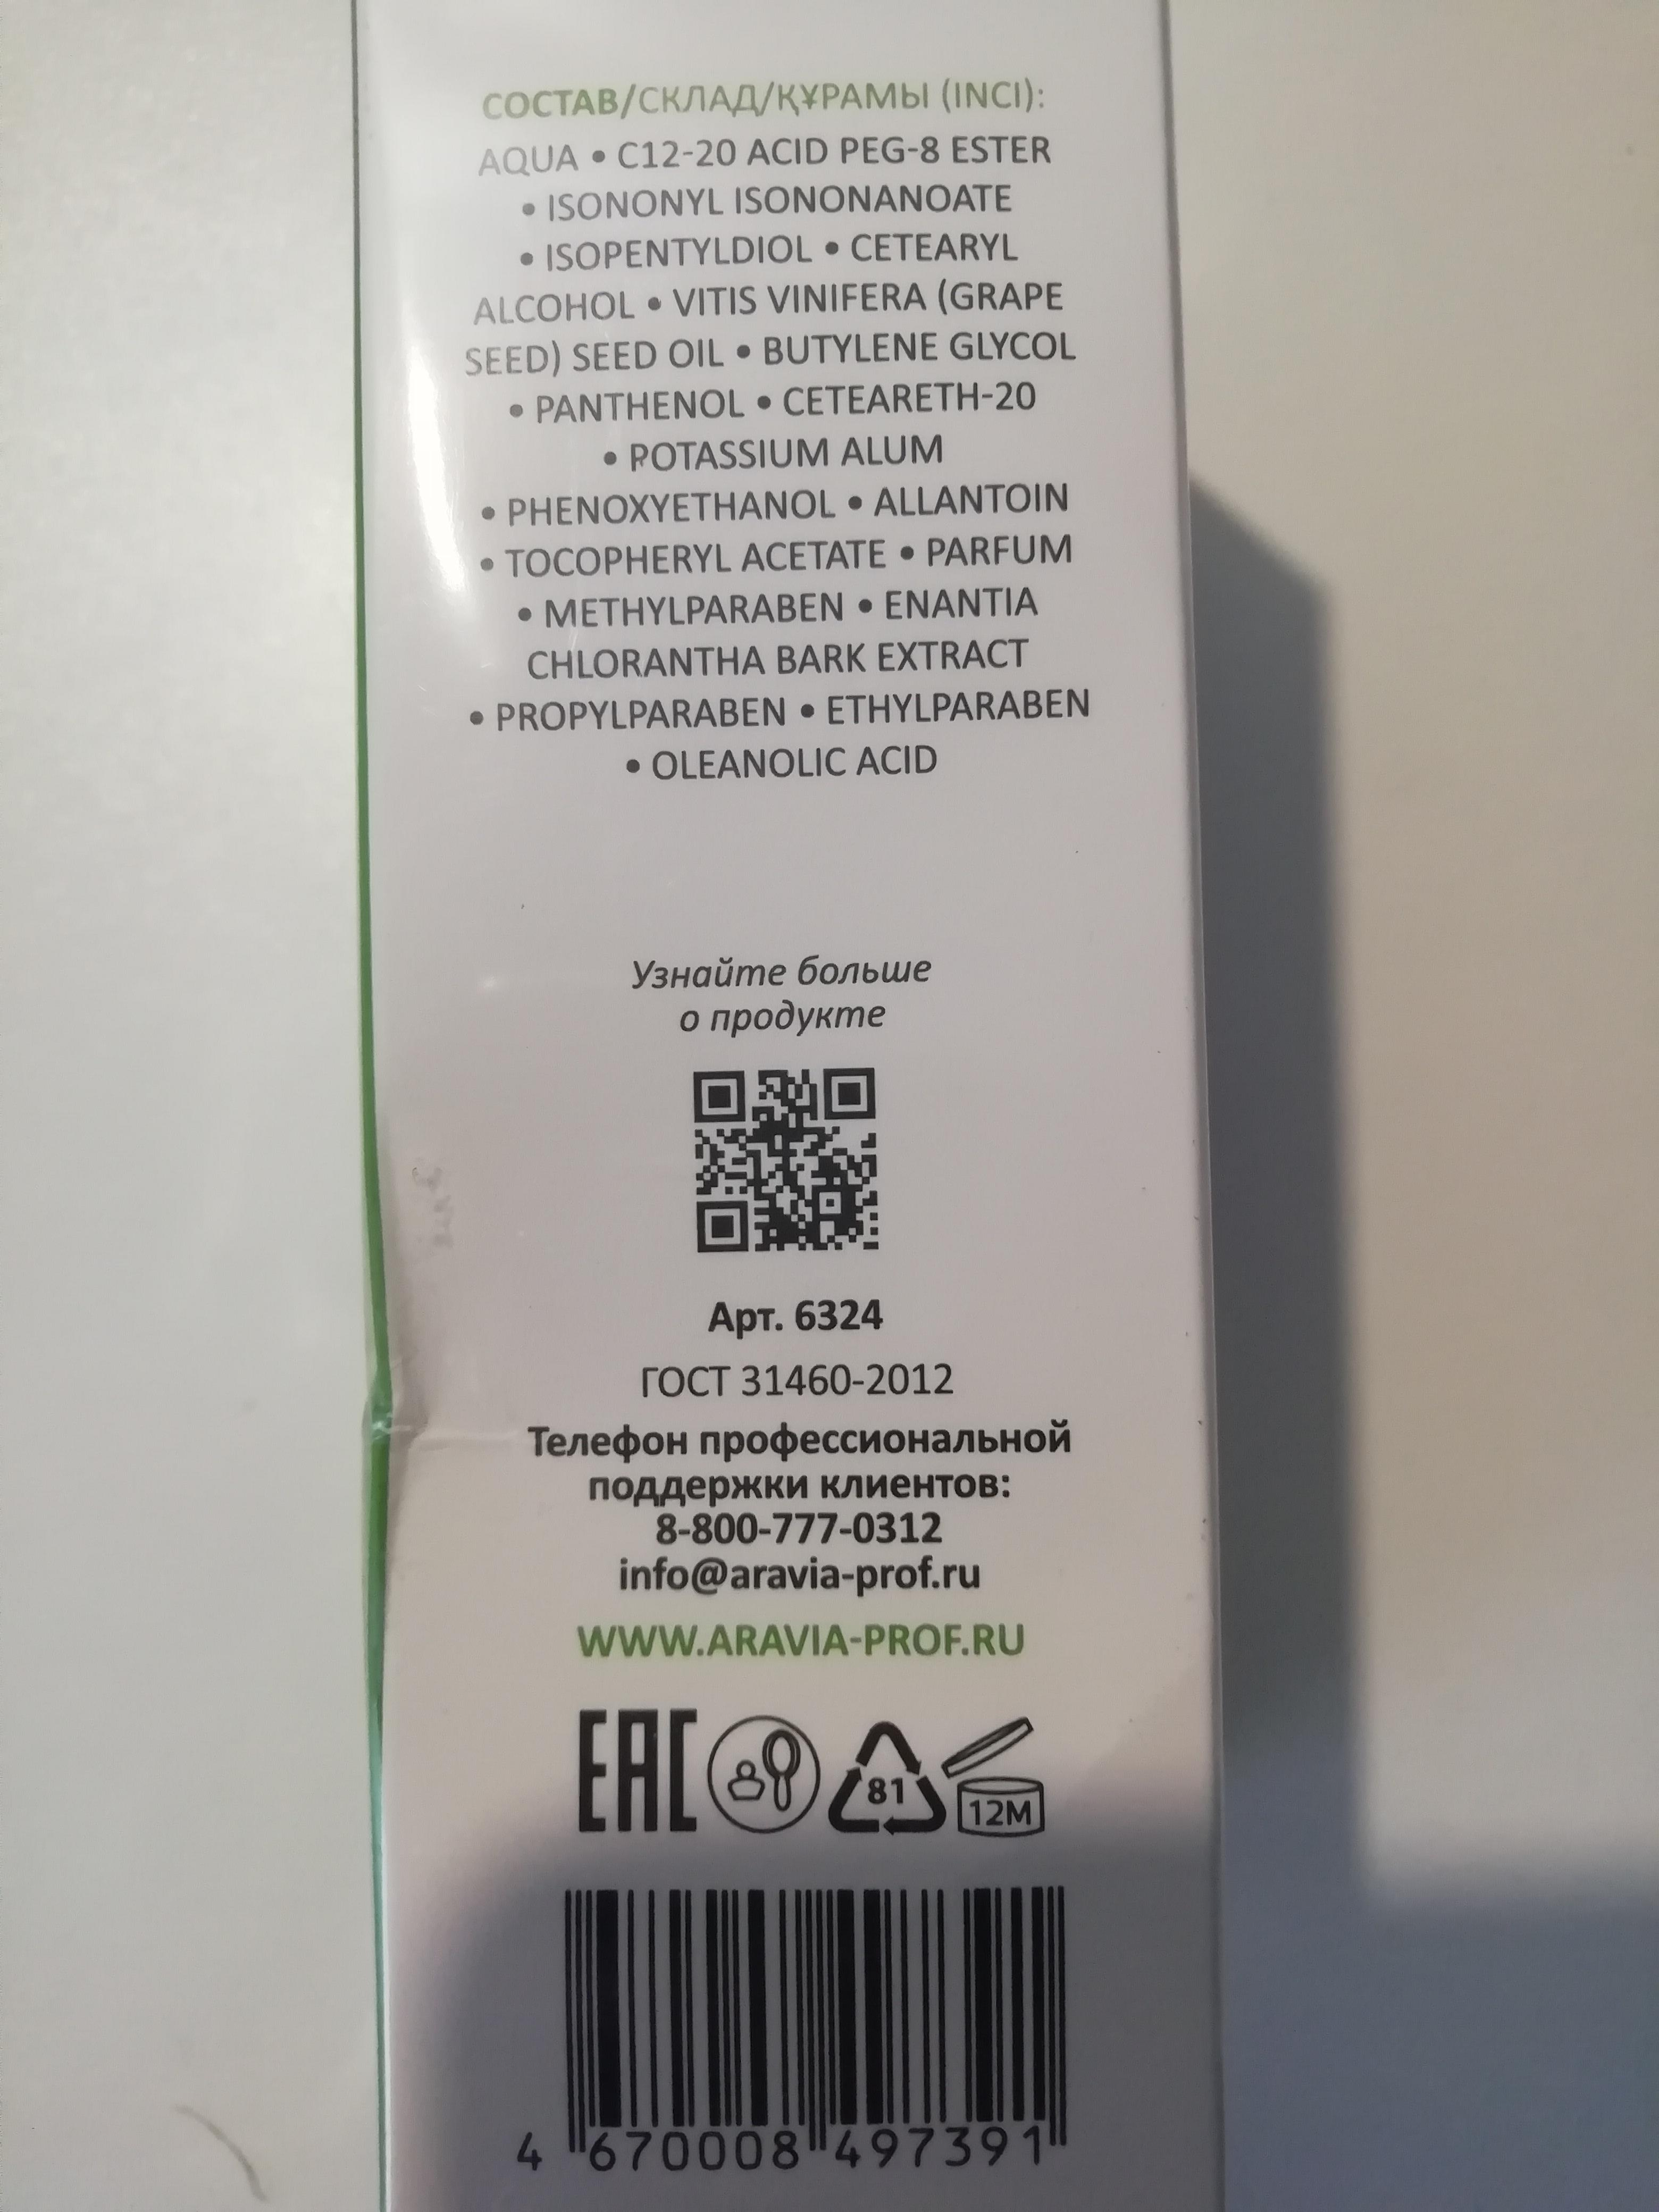qrcode: (694, 1069, 880, 1252)
